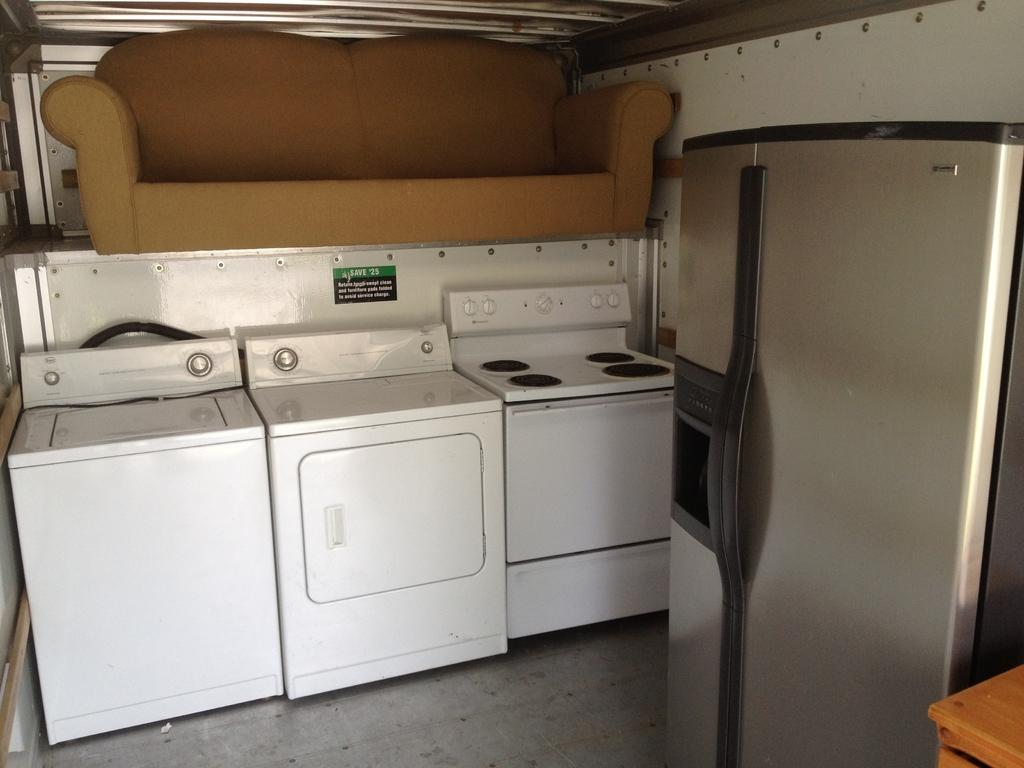handle: (715, 324, 763, 568), (696, 366, 738, 566)
